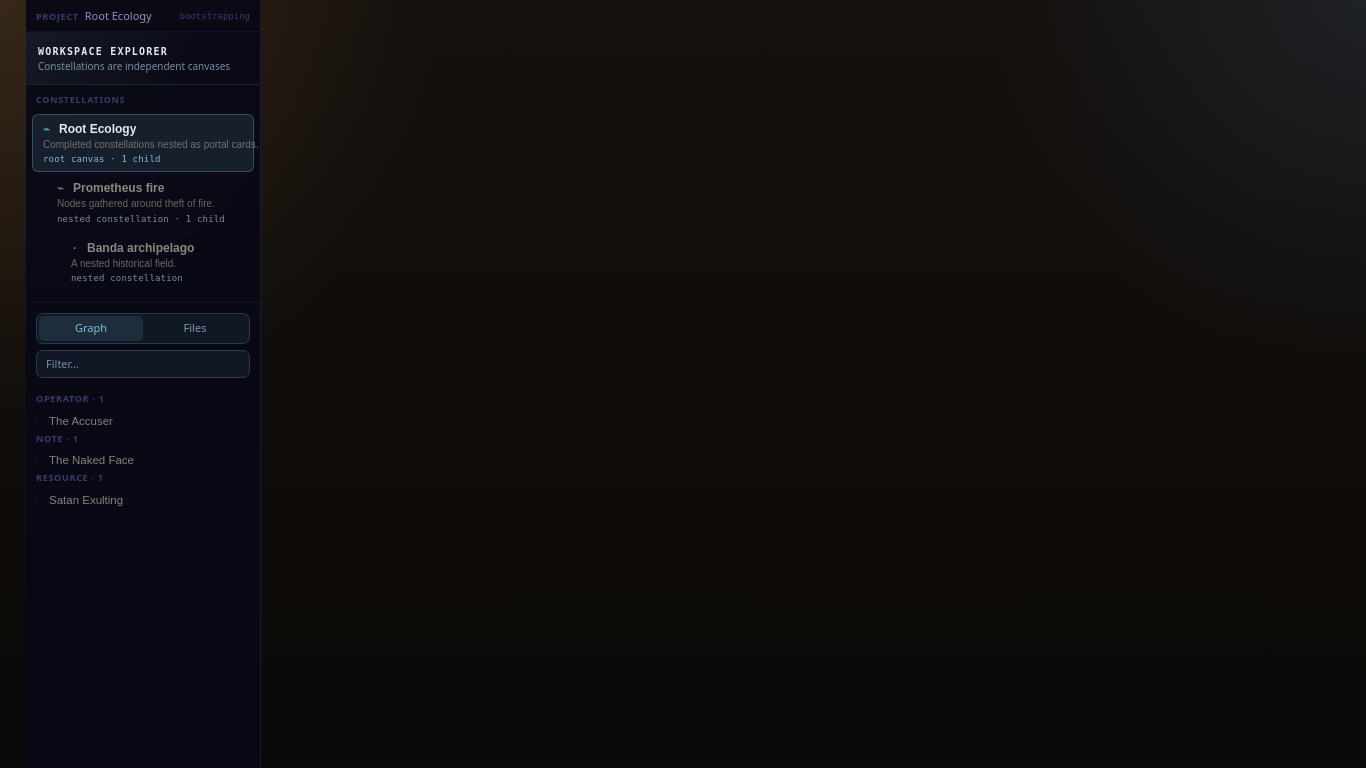
Test: LeftOverlay browser › switches to the Files view
This screenshot has width=1366, height=768.
What coordinates should you click on to do the following:
click the button with test id "browser-files"
I would click on:
 (195, 328)
Its box is left=143, top=316, right=247, bottom=340.
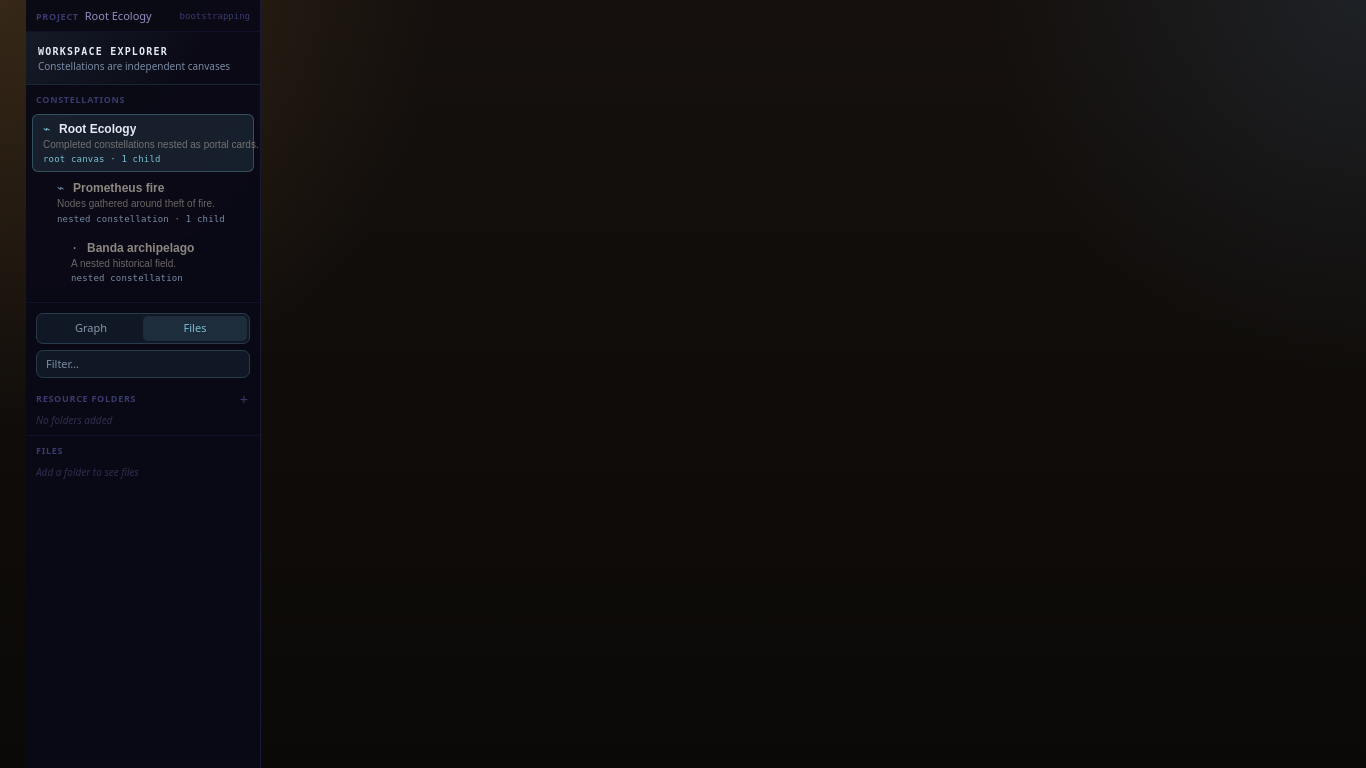
Now the text "Files" is shown, box left=36, top=444, right=63, bottom=458
